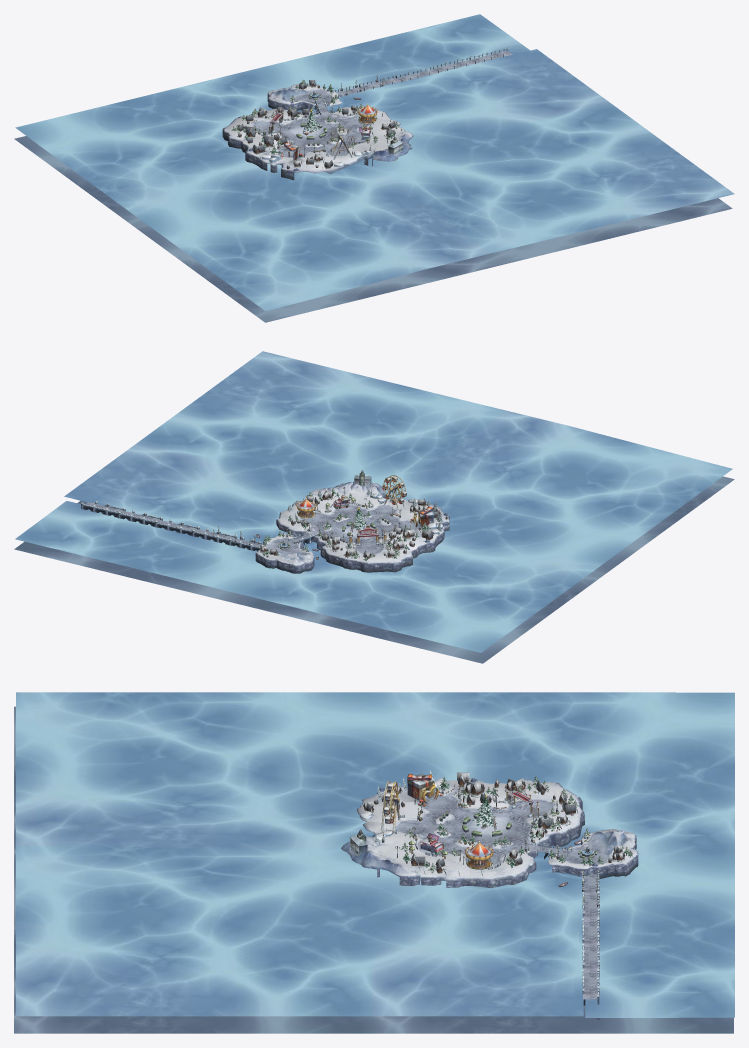
File: febg_christmas_001_01.glb
3 renders of one model, top to bottom at view 1: azimuth 30°, elevation 25°; view 2: azimuth 150°, elevation 25°; view 3: azimuth 270°, elevation 25°, orthographic. The views are drawn at different scales.
Parts seen in each view (by area): view 1: febg_christmas_001_ice_01, febg_christmas_001_ice_02, febg_christmas_003_bg_01; view 2: febg_christmas_001_ice_01, febg_christmas_003_bg_01, febg_christmas_001_ice_02, febg_christmas_001_ferriswheel_01; view 3: febg_christmas_001_ice_01, febg_christmas_003_bg_01, febg_christmas_001_ice_02, febg_christmas_001_gifthouse_01, febg_christmas_001_ferriswheel_01, febg_christmas_001_carousel_01.
Part boxes in pixels (box(x1,y1,x2,y2)): febg_christmas_001_ice_01: box(15, 14, 734, 311); febg_christmas_001_ice_02: box(14, 105, 732, 322); febg_christmas_003_bg_01: box(222, 83, 413, 180); febg_christmas_001_ice_01: box(15, 351, 732, 652); febg_christmas_003_bg_01: box(255, 482, 449, 573); febg_christmas_001_ice_02: box(14, 476, 734, 663); febg_christmas_001_ferriswheel_01: box(382, 475, 406, 509); febg_christmas_001_ice_01: box(16, 692, 734, 1017); febg_christmas_003_bg_01: box(341, 778, 638, 888); febg_christmas_001_ice_02: box(14, 706, 733, 1033); febg_christmas_001_gifthouse_01: box(407, 773, 439, 803); febg_christmas_001_ferriswheel_01: box(381, 781, 400, 831); febg_christmas_001_carousel_01: box(465, 841, 493, 869).
Size of the model in its own units: 247 by 24.45 by 229.
Materials: 13 (13 with a texture image).
